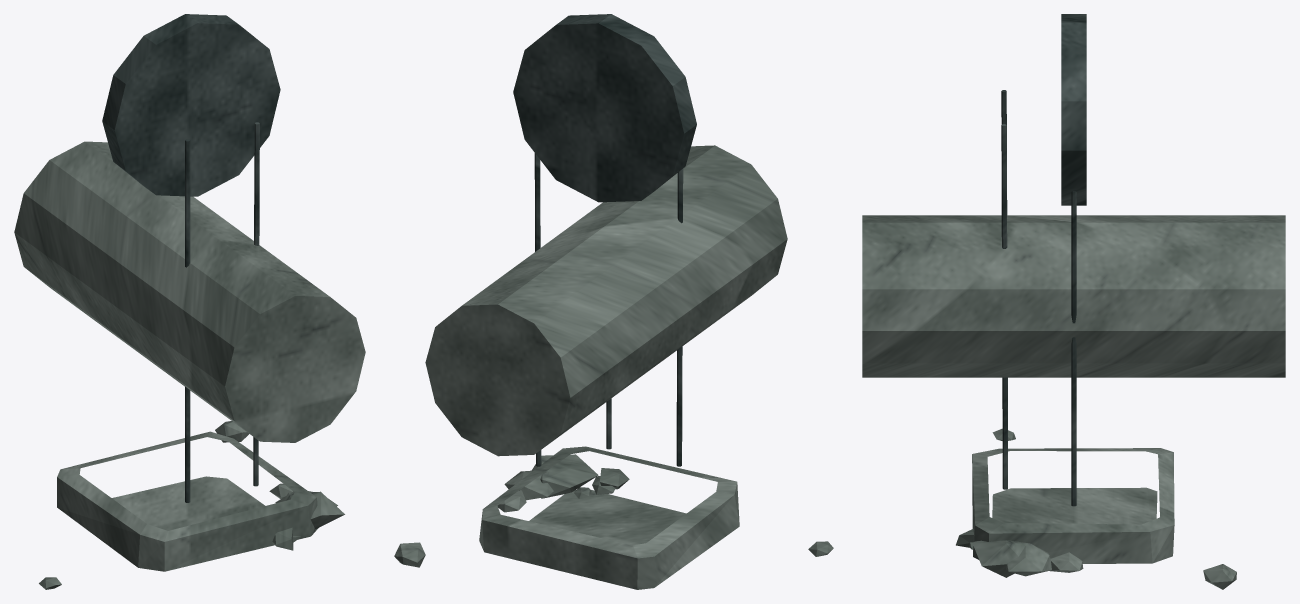
File: 0271_broken_column_21.glb
The picture shows the model from 3 angles, left to right: view 1: azimuth 30°, elevation 25°; view 2: azimuth 150°, elevation 25°; view 3: azimuth 270°, elevation 25°; orthographic projection. The views are drawn at different scales.
Visible parts, largest first — view 1: stone, stone_dark; view 2: stone, stone_dark; view 3: stone, stone_dark.
Boxes of the visible parts, <box> form: stone: <box>14,141,365,589</box>; stone_dark: <box>102,14,280,502</box>; stone: <box>394,145,833,589</box>; stone_dark: <box>513,14,696,466</box>; stone: <box>862,215,1285,589</box>; stone_dark: <box>1001,14,1086,506</box>.
Size of the model in its own units: 2.17 by 3.36 by 2.53.
2 materials, 2 textured.
